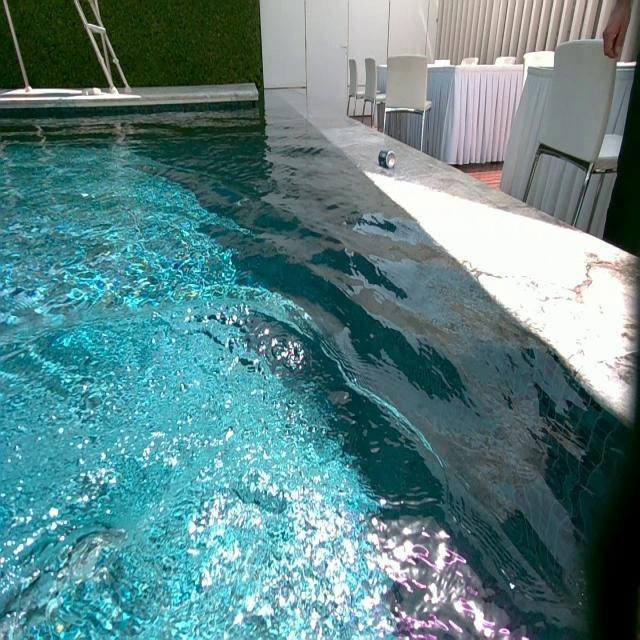Cans: (379, 148, 395, 168)
